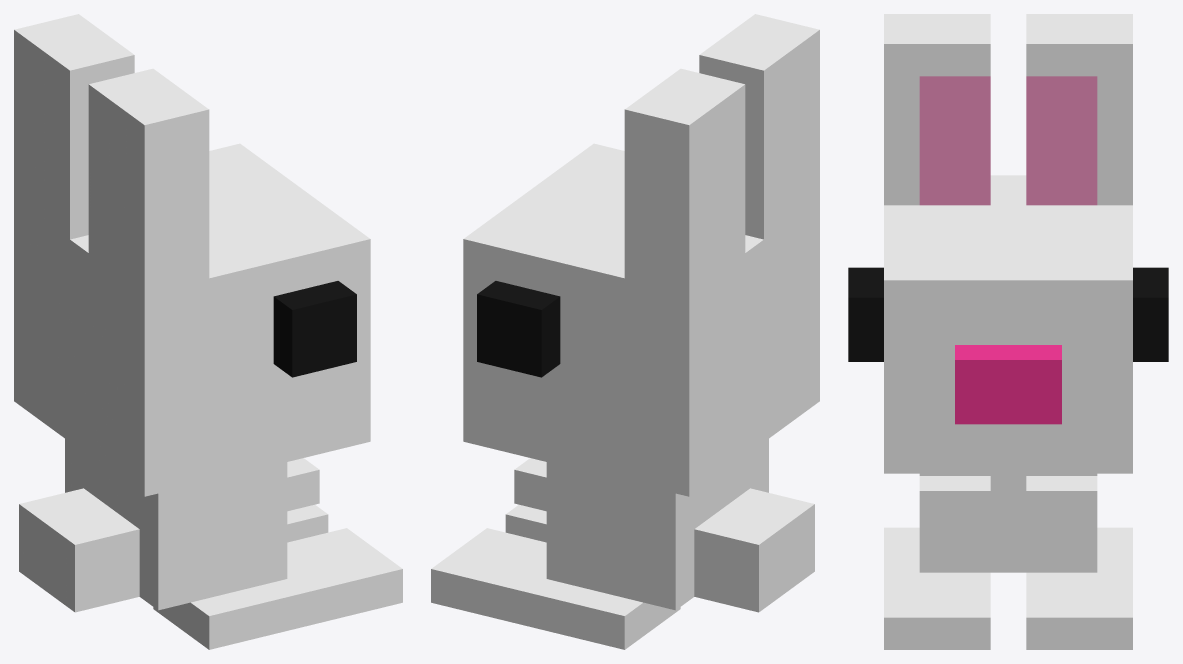
Rendered from bunny.obj.
3 renders of one model, left to right at view 1: azimuth 30°, elevation 25°; view 2: azimuth 150°, elevation 25°; view 3: azimuth 270°, elevation 25°, orthographic. The views are drawn at different scales.
Visible parts, largest first — view 1: bunny; view 2: bunny; view 3: bunny.
Part boxes in pixels (left/top/right/bottom): bunny: left=14, top=14, right=402, bottom=649; bunny: left=431, top=14, right=819, bottom=649; bunny: left=848, top=14, right=1168, bottom=649.
Size of the model in its own units: 0.9 by 1.6 by 0.9.
1 material, 1 textured.
